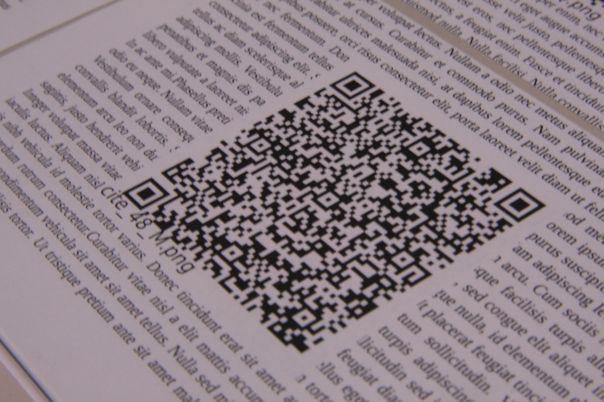Finder pattern: (493, 187, 545, 226), (120, 177, 171, 210), (330, 70, 377, 99)
